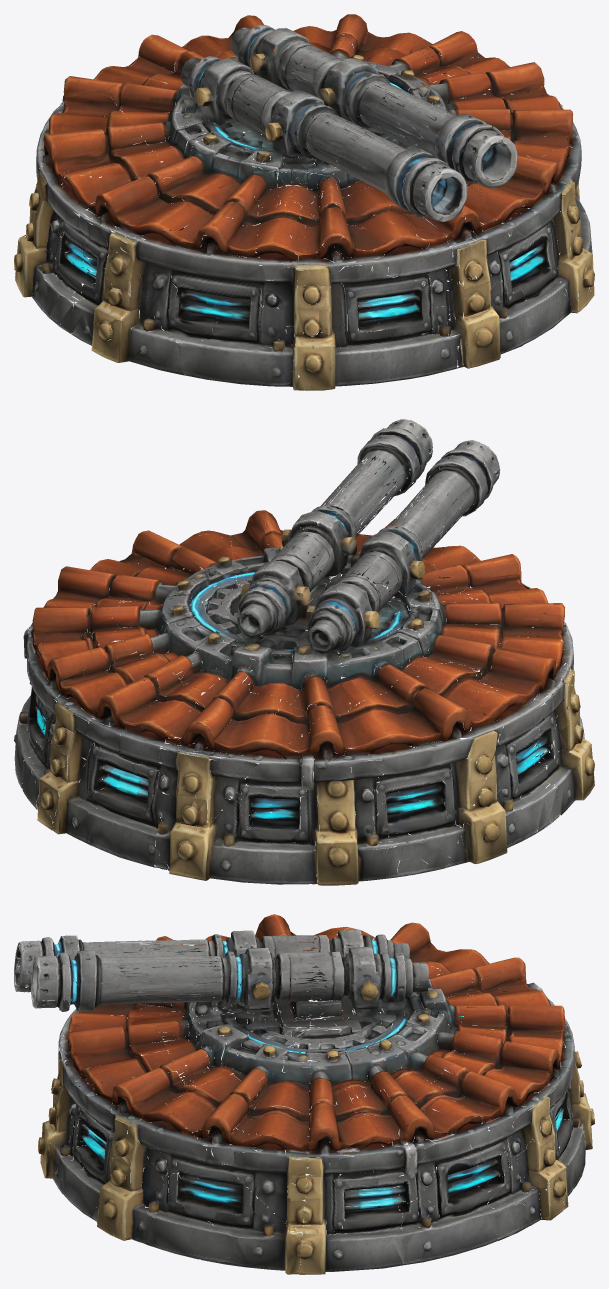
File: warrior-1-tier-2.glb
The picture shows the model from 3 angles, top to bottom: view 1: azimuth 30°, elevation 25°; view 2: azimuth 150°, elevation 25°; view 3: azimuth 270°, elevation 25°; orthographic projection. The views are drawn at different scales.
Visible parts, largest first — view 1: fixed-platform, moving-assembly; view 2: fixed-platform, moving-assembly; view 3: fixed-platform, moving-assembly.
Boxes of the visible parts, bbox=[...] form: fixed-platform: bbox=[14, 14, 594, 390]; moving-assembly: bbox=[172, 25, 517, 221]; fixed-platform: bbox=[14, 510, 594, 885]; moving-assembly: bbox=[163, 419, 500, 677]; fixed-platform: bbox=[38, 914, 594, 1274]; moving-assembly: bbox=[14, 929, 450, 1066].
Size of the model in its own units: 0.786 by 0.3407 by 0.815.
2 materials, 2 textured.
